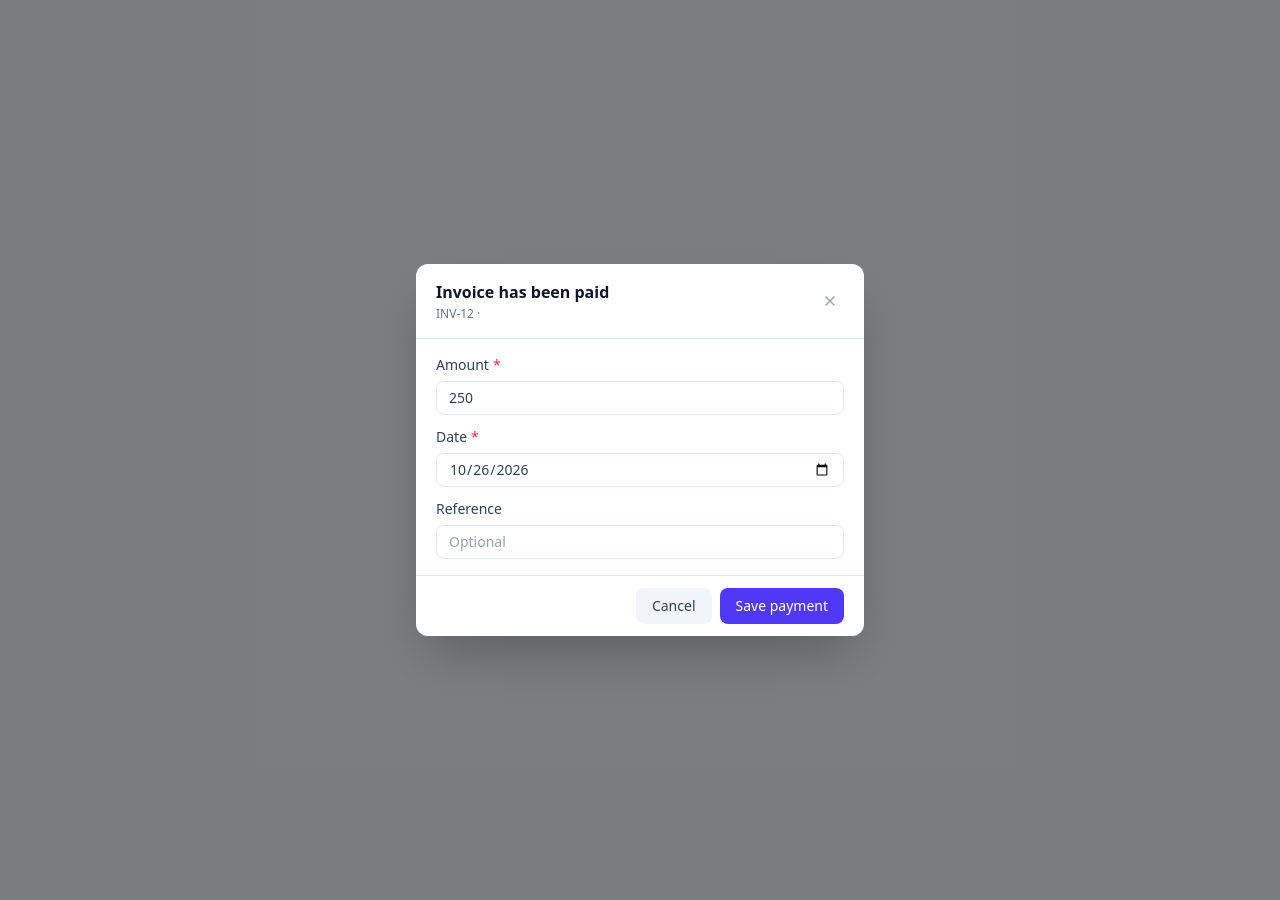
Test: MarkInvoicePaidModal › requires an amount and a payment date before saving
The image size is (1280, 900).
Clear the number field labelled "Amount*" at (640, 398), box [436, 381, 844, 415]
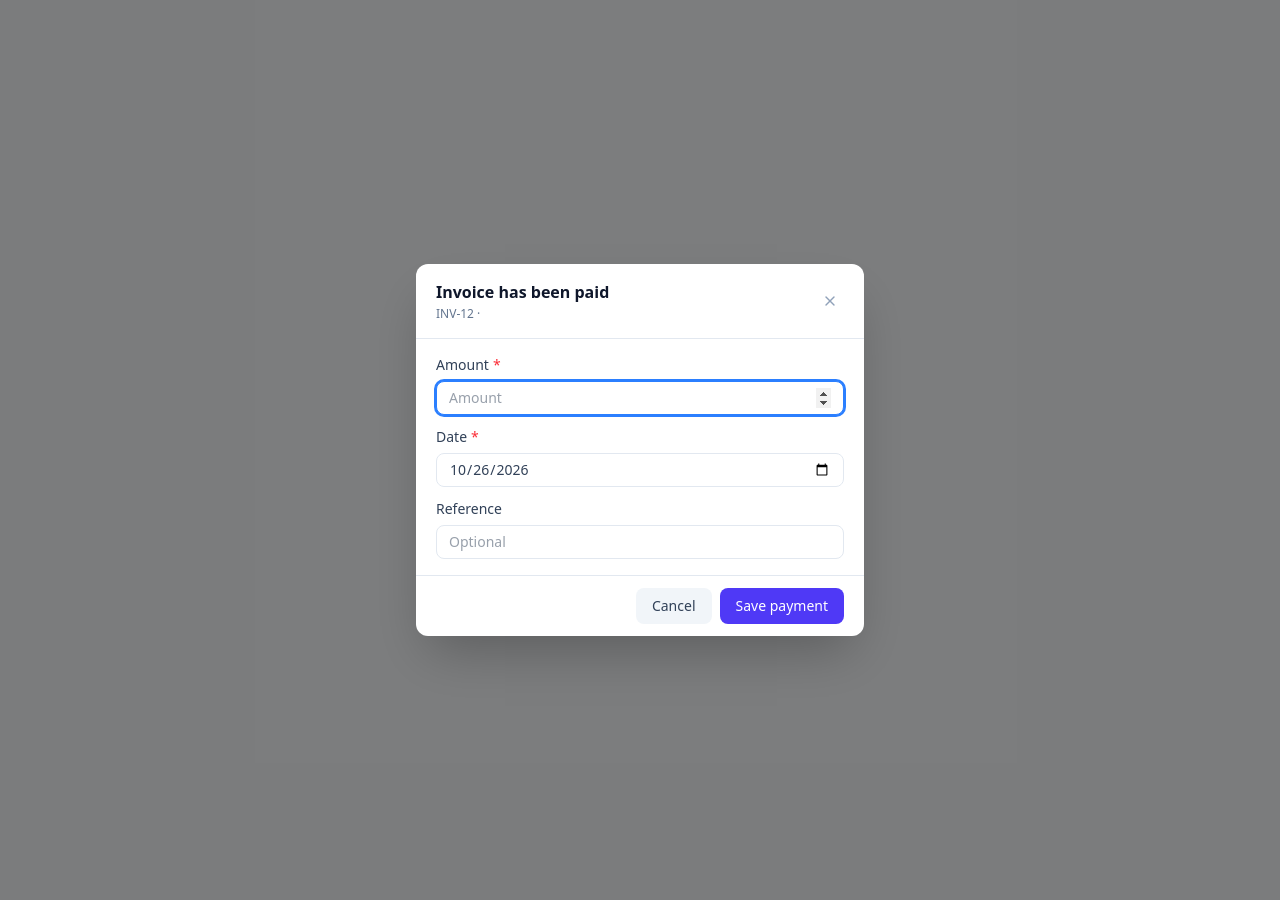
Click the button "Save payment" at (782, 606), box [720, 588, 844, 624]
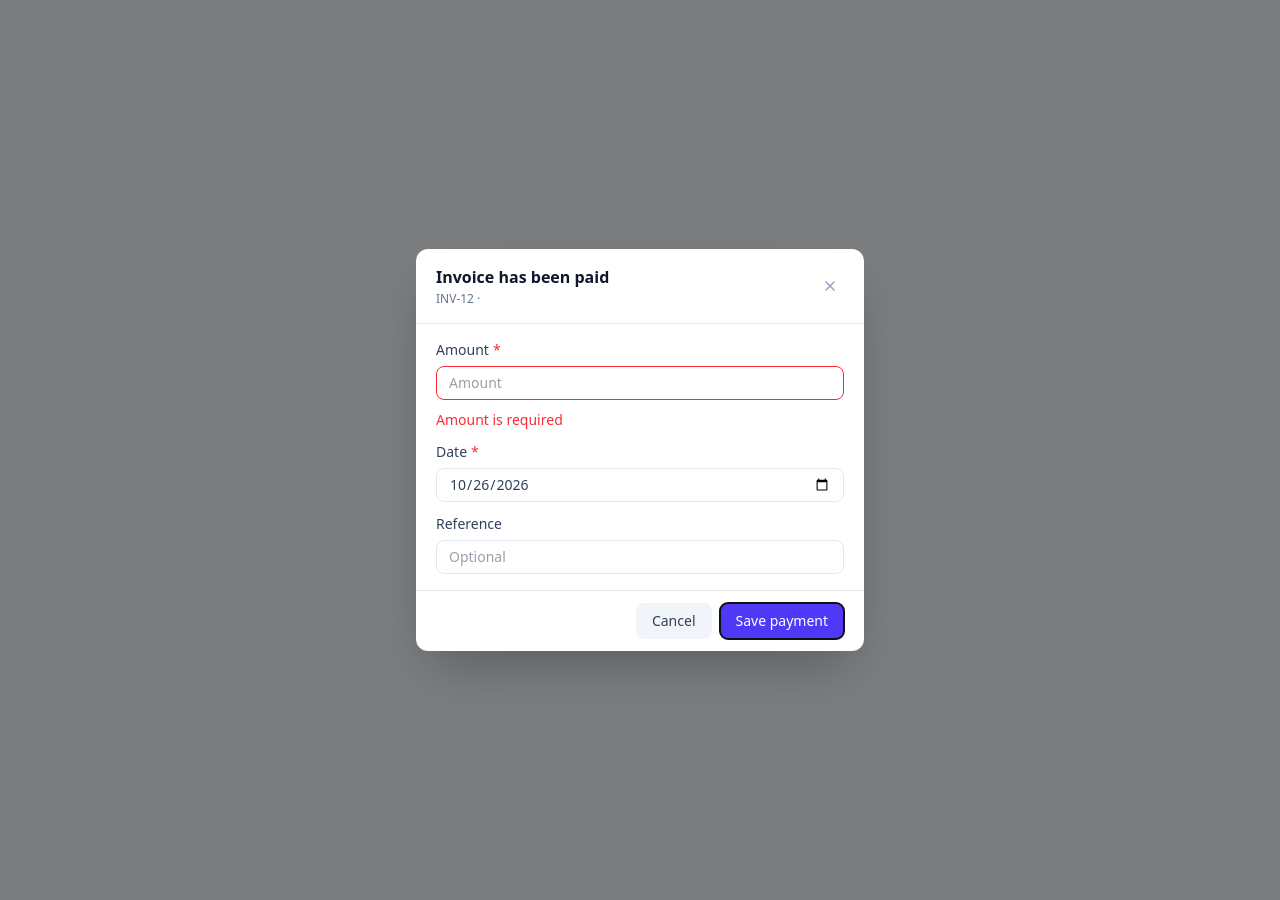
Now the text "Amount is required" is shown, box [436, 410, 563, 429]
Type "250" into the number field labelled "Amount*" at (640, 383), box [436, 366, 844, 400]
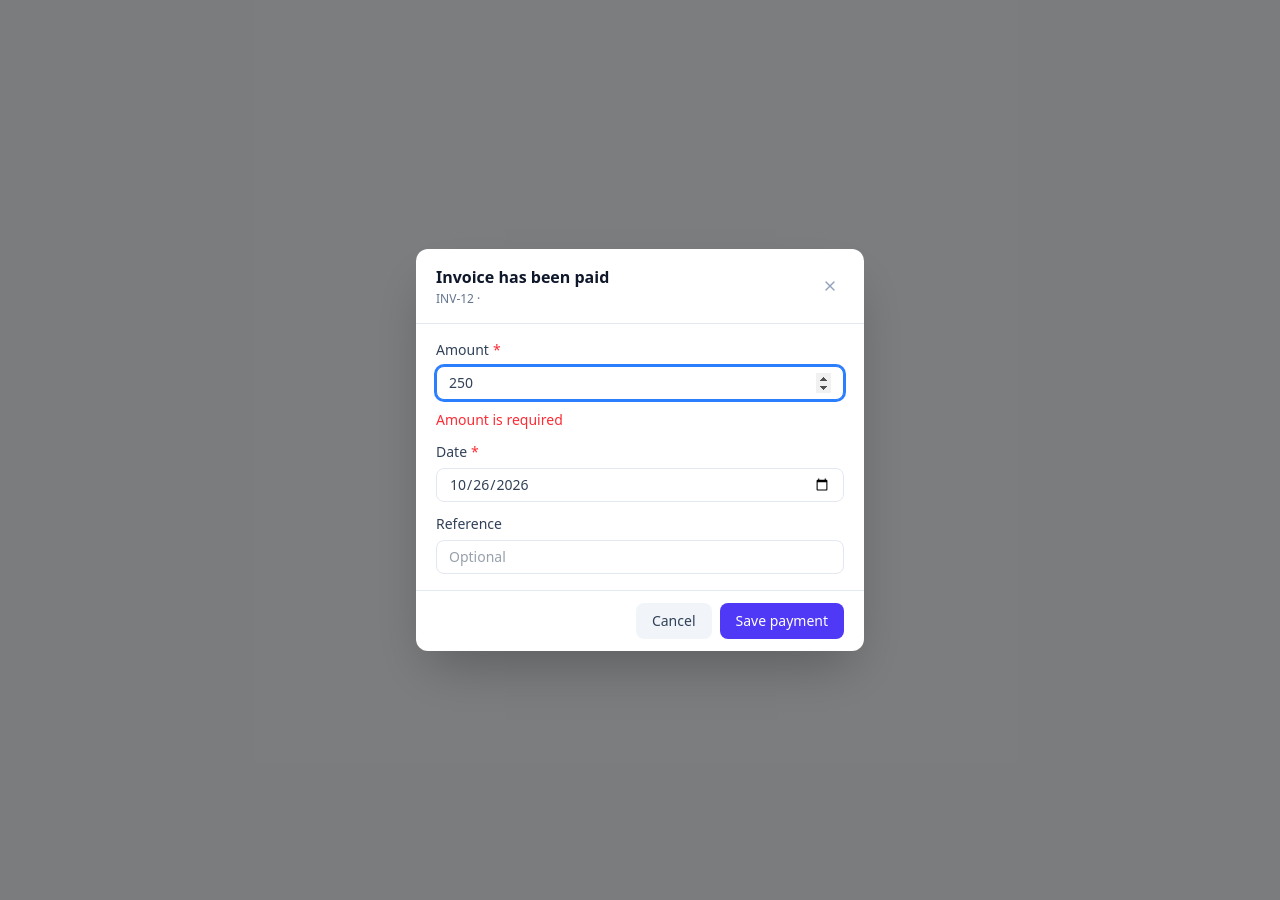
Clear the date field labelled "Date*" at (640, 485), box [436, 468, 844, 502]
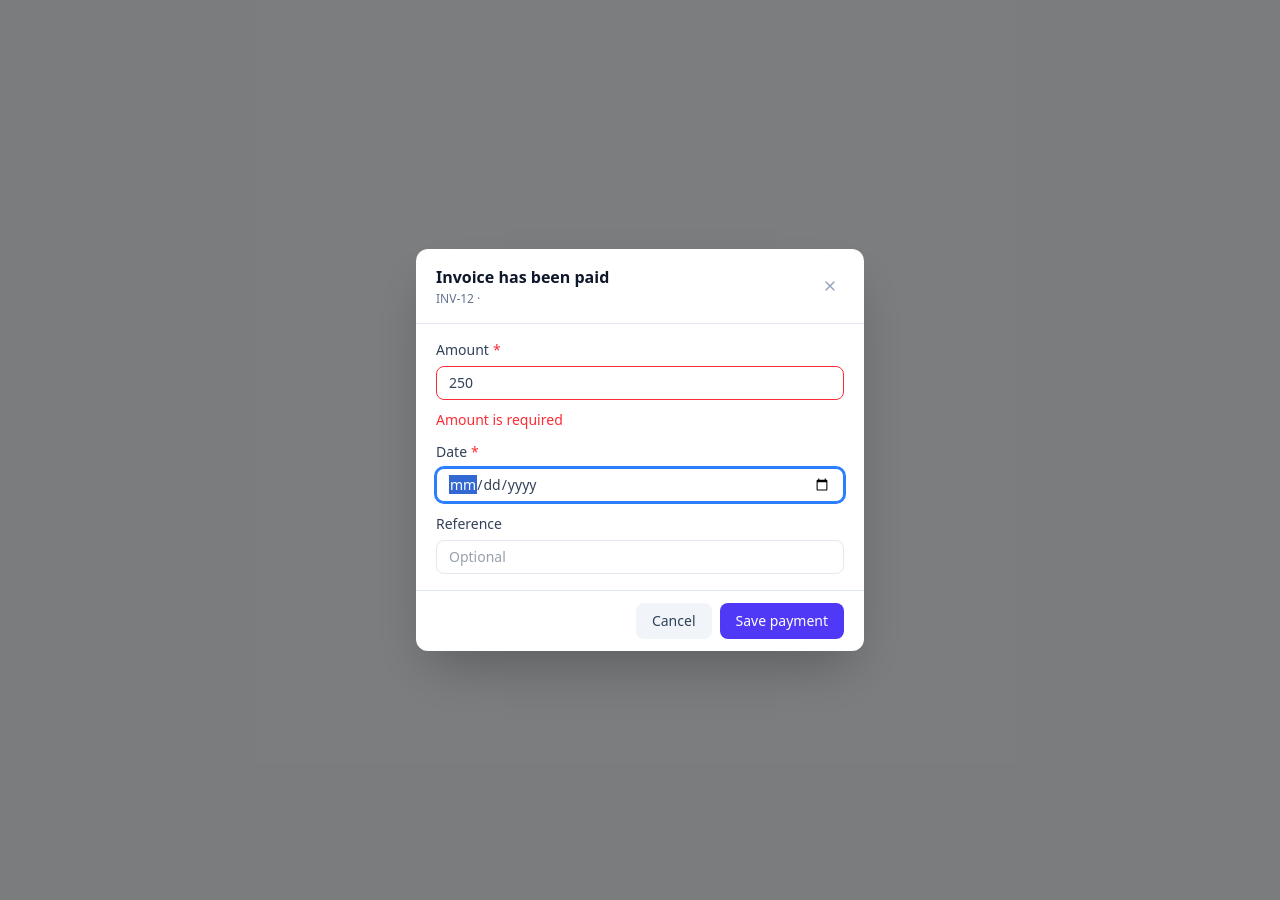
Click the button "Save payment" at (782, 621), box [720, 603, 844, 639]
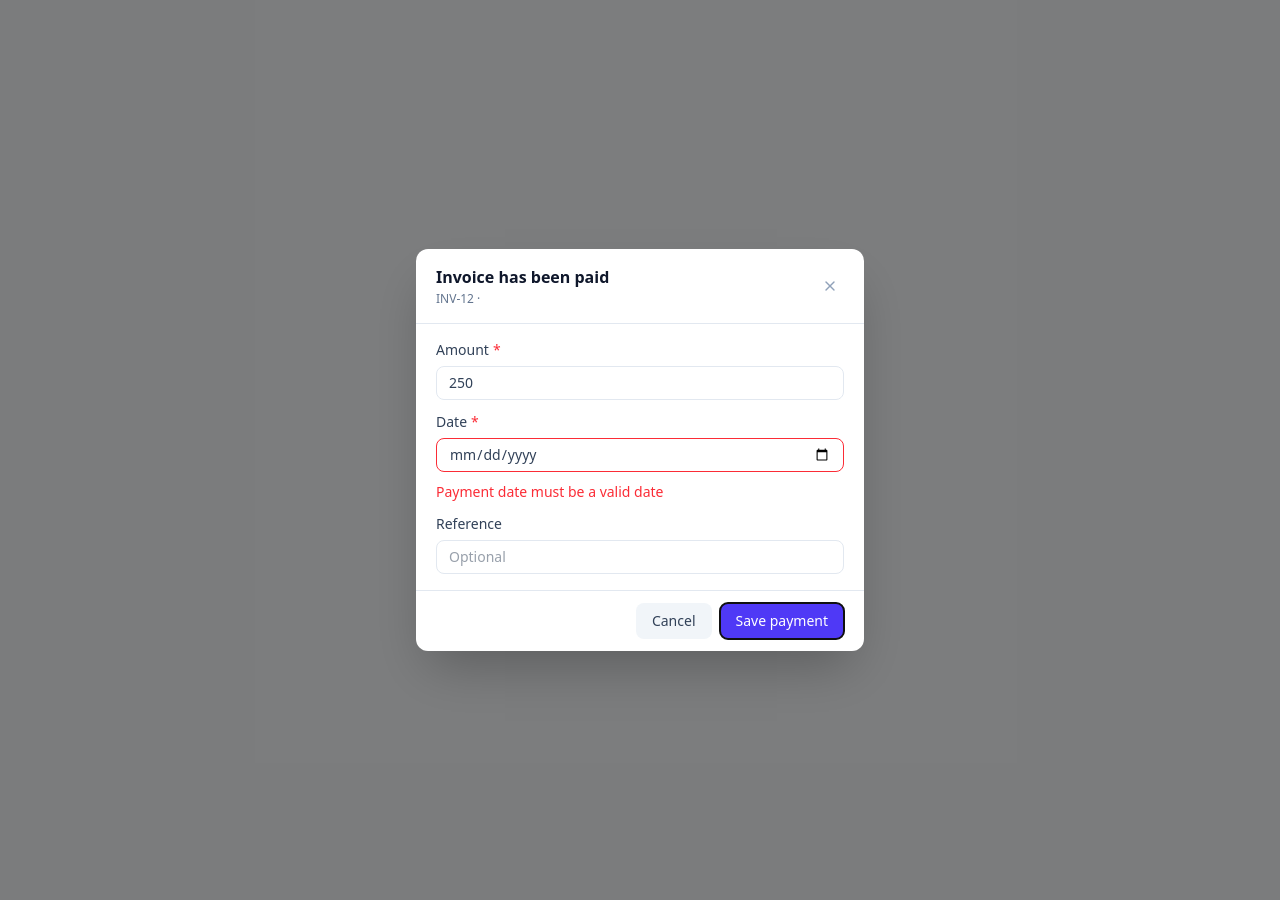
Now the text "Payment date must be a valid date" is shown, box [436, 482, 664, 501]
